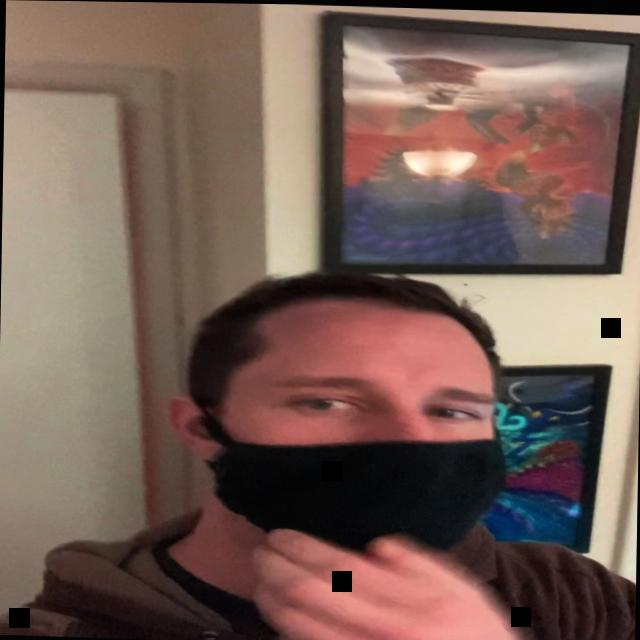Mask: (182, 267, 564, 576)
